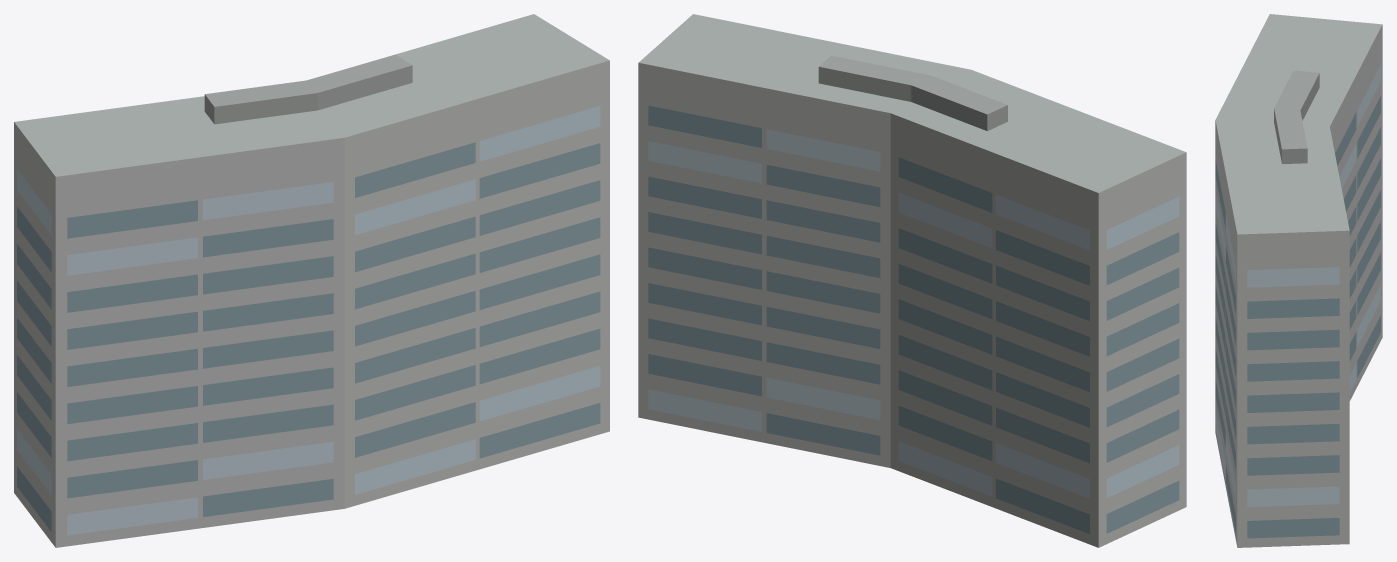
The model's file is fallback-dmc-raemian-e-pyeonhansesang-209.glb.
The picture shows the model from 3 angles, left to right: view 1: azimuth 30°, elevation 25°; view 2: azimuth 150°, elevation 25°; view 3: azimuth 270°, elevation 25°; orthographic projection. The views are drawn at different scales.
Visible parts, largest first — view 1: fallback-dmc-raemian-e-pyeonhansesang-209; view 2: fallback-dmc-raemian-e-pyeonhansesang-209; view 3: fallback-dmc-raemian-e-pyeonhansesang-209.
Boxes of the visible parts, left/top/right/bottom form: fallback-dmc-raemian-e-pyeonhansesang-209: left=14, top=14, right=609, bottom=547; fallback-dmc-raemian-e-pyeonhansesang-209: left=638, top=14, right=1186, bottom=547; fallback-dmc-raemian-e-pyeonhansesang-209: left=1215, top=14, right=1382, bottom=547.
Size of the model in its own units: 43.22 by 30 by 13.84.
